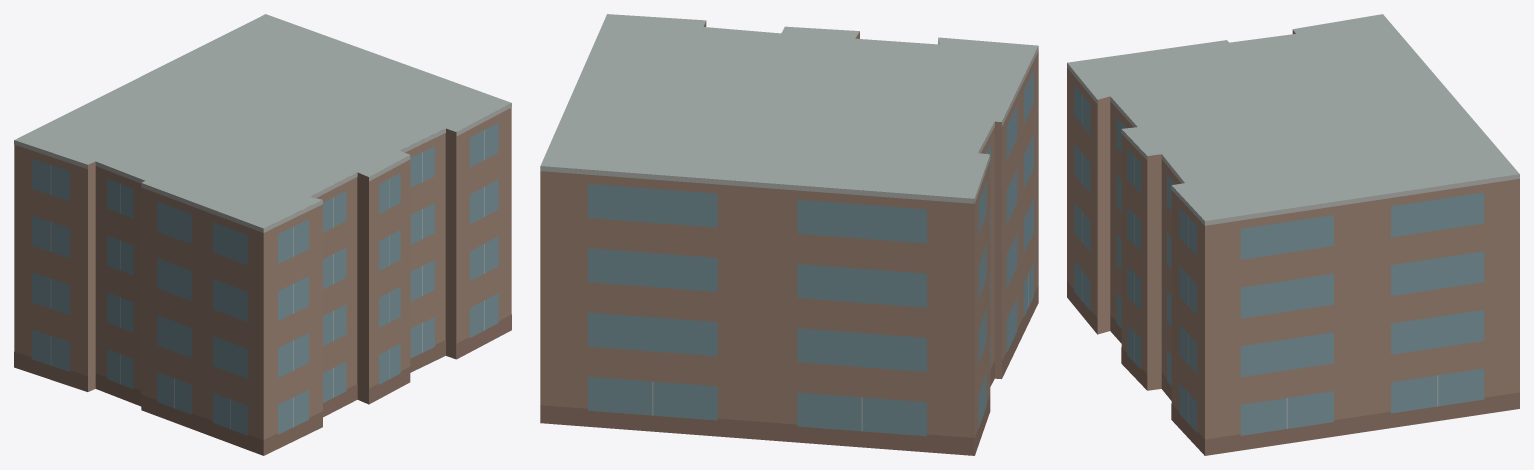
Rendered from survey-upis-32973201.glb.
3 renders of one model, left to right at view 1: azimuth 30°, elevation 25°; view 2: azimuth 150°, elevation 25°; view 3: azimuth 270°, elevation 25°, orthographic. The views are drawn at different scales.
Visible parts, largest first — view 1: survey-upis-32973201.tmp; view 2: survey-upis-32973201.tmp; view 3: survey-upis-32973201.tmp.
Part boxes in pixels (bbox=[...]): survey-upis-32973201.tmp: bbox=[14, 14, 511, 455]; survey-upis-32973201.tmp: bbox=[540, 14, 1038, 455]; survey-upis-32973201.tmp: bbox=[1067, 14, 1519, 455].
Bounding box in the file's own units: 23.49 × 12.4 × 21.69.
